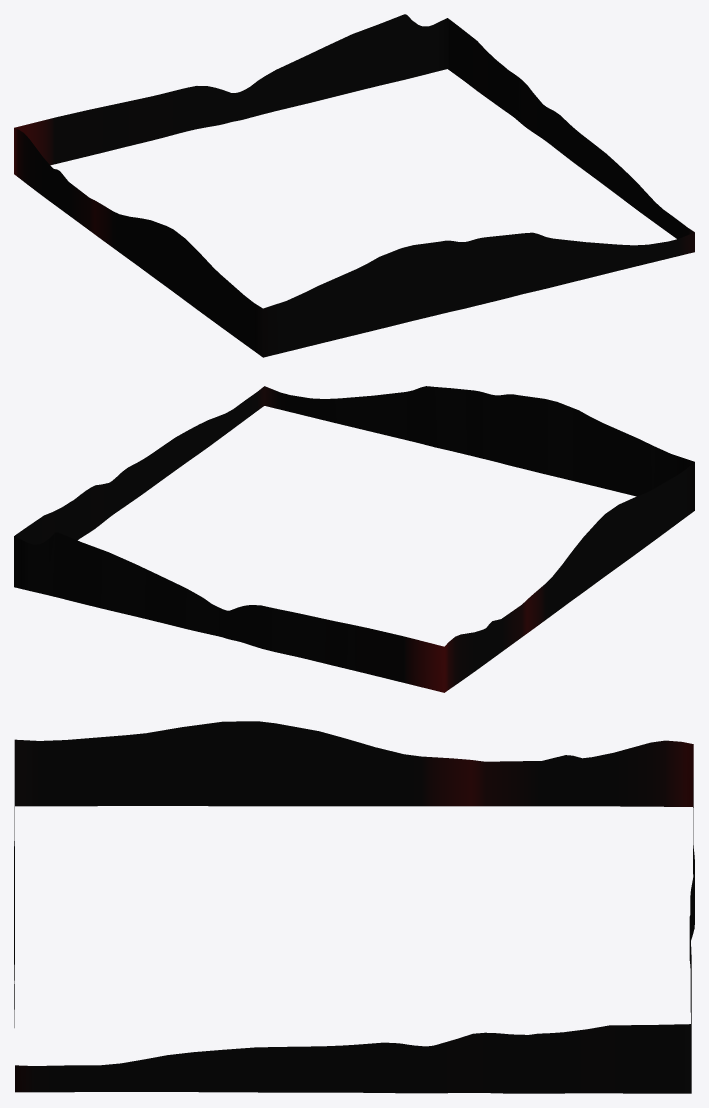
The model's file is Terrain_01_ShadowCage_Mesh.fbx.
The picture shows the model from 3 angles, top to bottom: view 1: azimuth 30°, elevation 25°; view 2: azimuth 150°, elevation 25°; view 3: azimuth 270°, elevation 25°; orthographic projection. The views are drawn at different scales.
Visible parts, largest first — view 1: Terrain_01_ShadowCage; view 2: Terrain_01_ShadowCage; view 3: Terrain_01_ShadowCage.
Part boxes in pixels (x1,y1,x2,y2): Terrain_01_ShadowCage: [14, 14, 694, 357]; Terrain_01_ShadowCage: [14, 386, 694, 692]; Terrain_01_ShadowCage: [14, 721, 694, 1093].
Bounding box in the file's own units: 2165871 × 360622 × 2167118.
